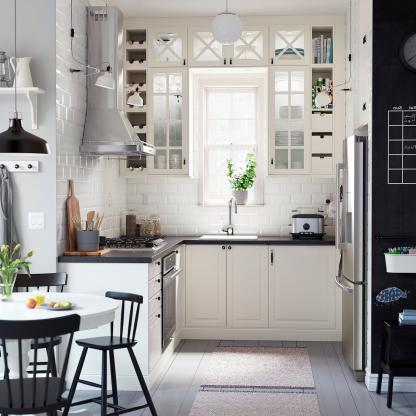chair: (75, 283, 152, 416), (0, 304, 82, 416), (9, 270, 68, 372), (367, 290, 416, 405)
clock: (394, 32, 416, 83)
light: (0, 4, 52, 156), (61, 0, 115, 96)
table: (0, 292, 123, 414)
